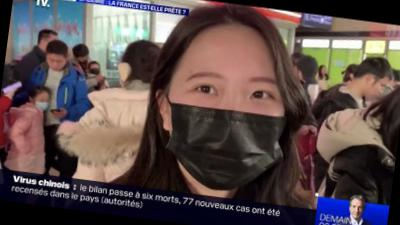with_mask: (160, 62, 292, 199), (34, 95, 52, 114), (89, 64, 102, 77)
without_mask: (366, 72, 390, 105), (44, 54, 68, 72)
